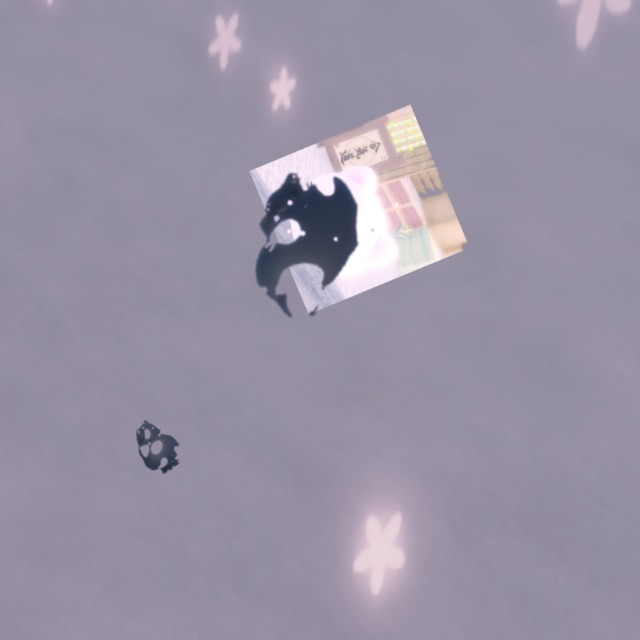urso_branco: (249, 104, 470, 315)
urso_preto: (204, 128, 408, 356), (119, 407, 192, 482)
